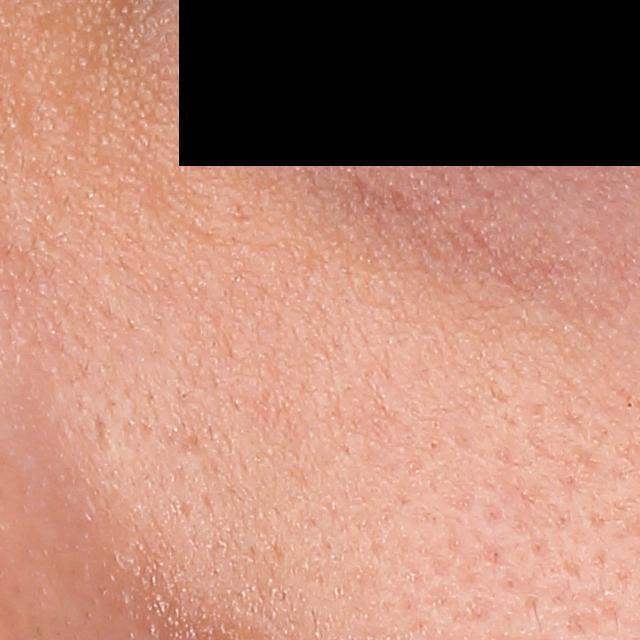atrophic_scar: (94, 415, 113, 454)
comedo: (623, 393, 640, 413)
